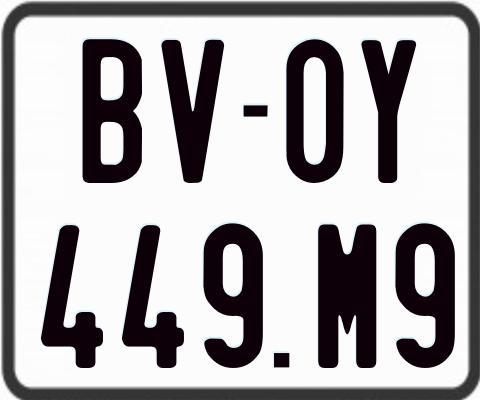0: (286, 37, 347, 183)
4: (119, 222, 183, 371), (38, 222, 102, 366)
9: (200, 220, 266, 369), (393, 223, 459, 372)
B: (81, 37, 145, 182)
M: (316, 224, 377, 371)
V: (159, 39, 228, 186)
Y: (360, 40, 416, 188)
